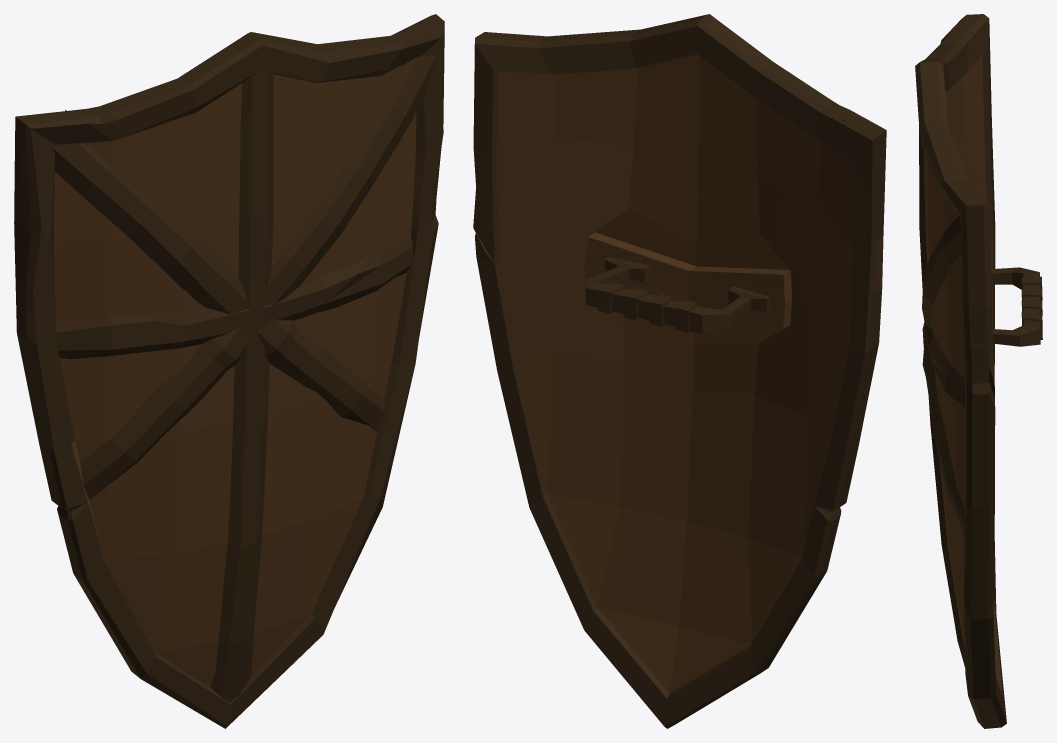
The model's file is shield.fbx.
3 views of the same model, side by side, from view 1: azimuth 30°, elevation 25°; view 2: azimuth 150°, elevation 25°; view 3: azimuth 270°, elevation 25° (orthographic). The views are drawn at different scales.
Visible parts, largest first — view 1: shield; view 2: shield; view 3: shield.
Boxes of the visible parts, left/top/right/bottom form: shield: left=14, top=14, right=444, bottom=728; shield: left=473, top=14, right=886, bottom=728; shield: left=915, top=14, right=1042, bottom=728.
Bounding box in the file's own units: 65.16 × 106 × 18.39.
